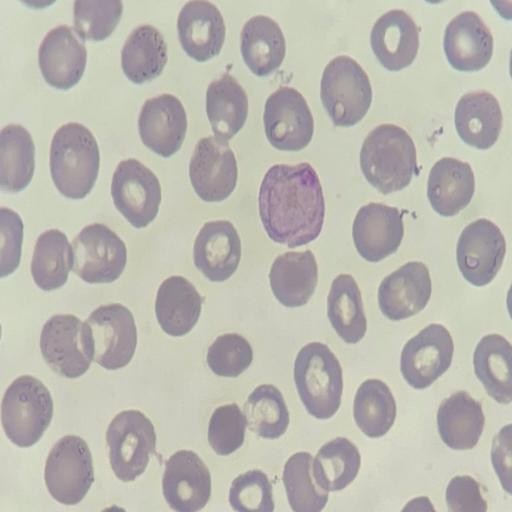Infected: (258, 162, 324, 245)
Uninfected: (359, 126, 417, 194), (49, 122, 100, 197), (293, 343, 343, 418), (106, 410, 156, 481), (40, 313, 95, 377), (320, 56, 371, 125), (2, 377, 52, 446), (399, 324, 452, 388), (111, 160, 161, 227), (84, 305, 136, 369), (351, 204, 407, 263), (70, 224, 126, 283), (455, 219, 505, 285), (44, 437, 94, 503), (263, 87, 314, 149), (189, 138, 238, 201), (378, 261, 430, 320), (370, 10, 421, 70), (443, 10, 493, 70), (138, 95, 187, 155), (154, 276, 203, 336), (161, 452, 210, 512), (39, 26, 86, 88), (268, 251, 318, 308), (193, 222, 241, 281), (454, 90, 502, 149), (177, 1, 225, 60), (205, 74, 248, 139), (327, 274, 367, 342), (427, 158, 475, 214), (472, 334, 512, 401), (121, 26, 168, 83), (282, 452, 328, 510), (437, 393, 484, 449), (240, 16, 285, 74), (31, 229, 73, 290), (314, 437, 360, 492), (353, 380, 396, 437), (243, 385, 288, 438), (0, 125, 35, 192), (206, 333, 252, 377), (207, 404, 247, 454), (74, 1, 121, 41), (229, 469, 273, 511), (446, 476, 488, 512)
